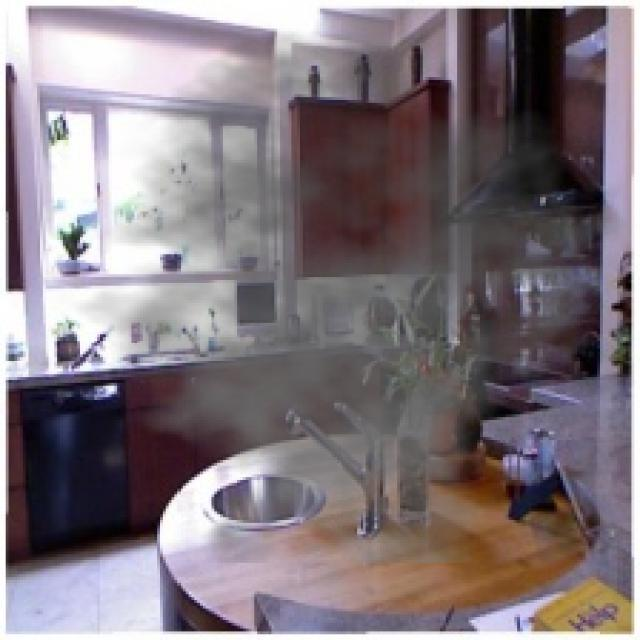smoke: (49, 28, 617, 563)
